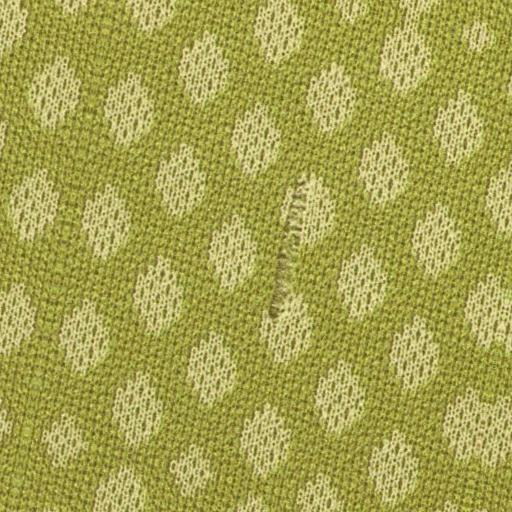slub: (243, 180, 341, 338)
